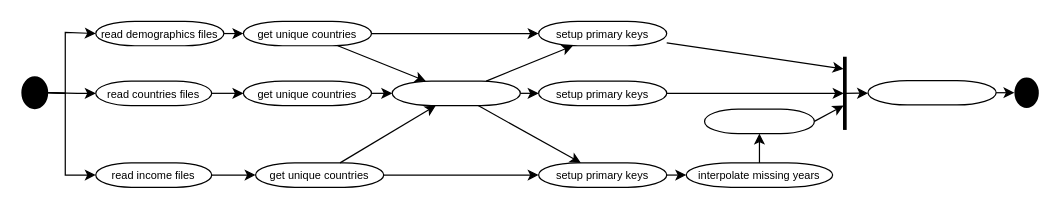
This 1059x209 diagram has some shape labels left out. Here are the shapes that lost their labels. From the top down, the centre of each, then its label:
At point 455,93: "join unique countries".
At point 931,92: "save data".
At point 758,121: "columns to rows".
